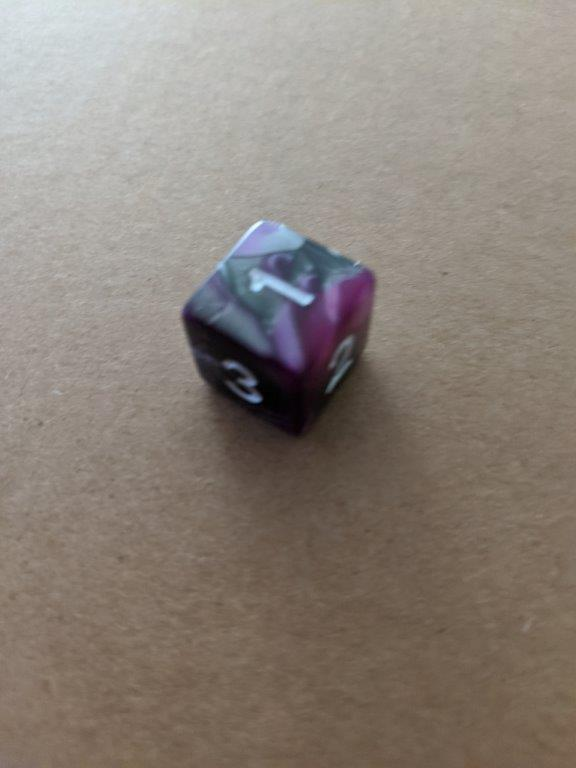d6-1: (176, 216, 376, 442)
